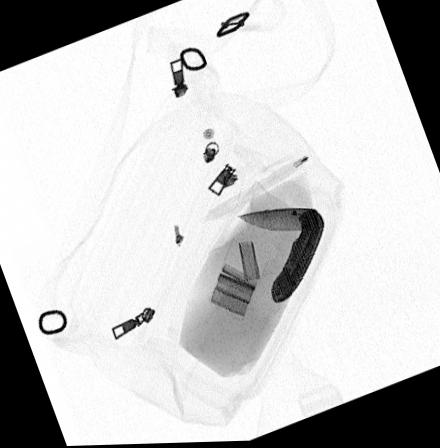Knife: (235, 207, 326, 306)
